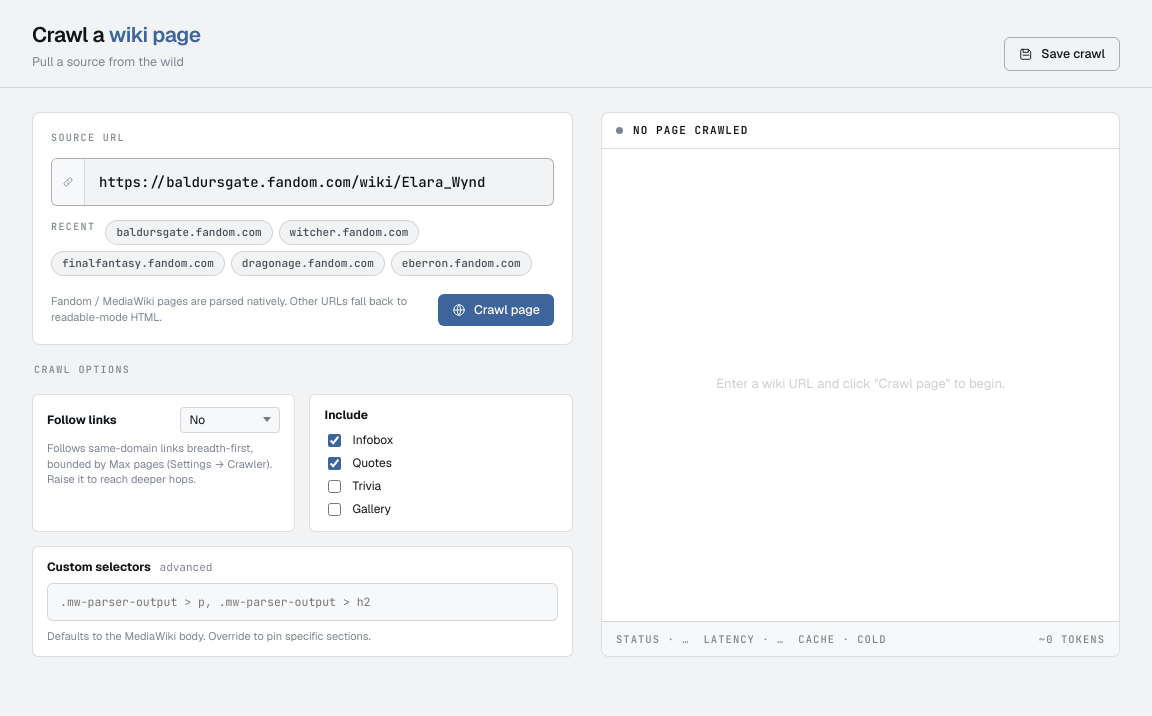
CrawlerScreen › displays crawl result in preview after successful crawl
This screenshot has width=1152, height=716.
Click the button "Crawl page". click: point(496, 310)
box: [438, 294, 554, 326]
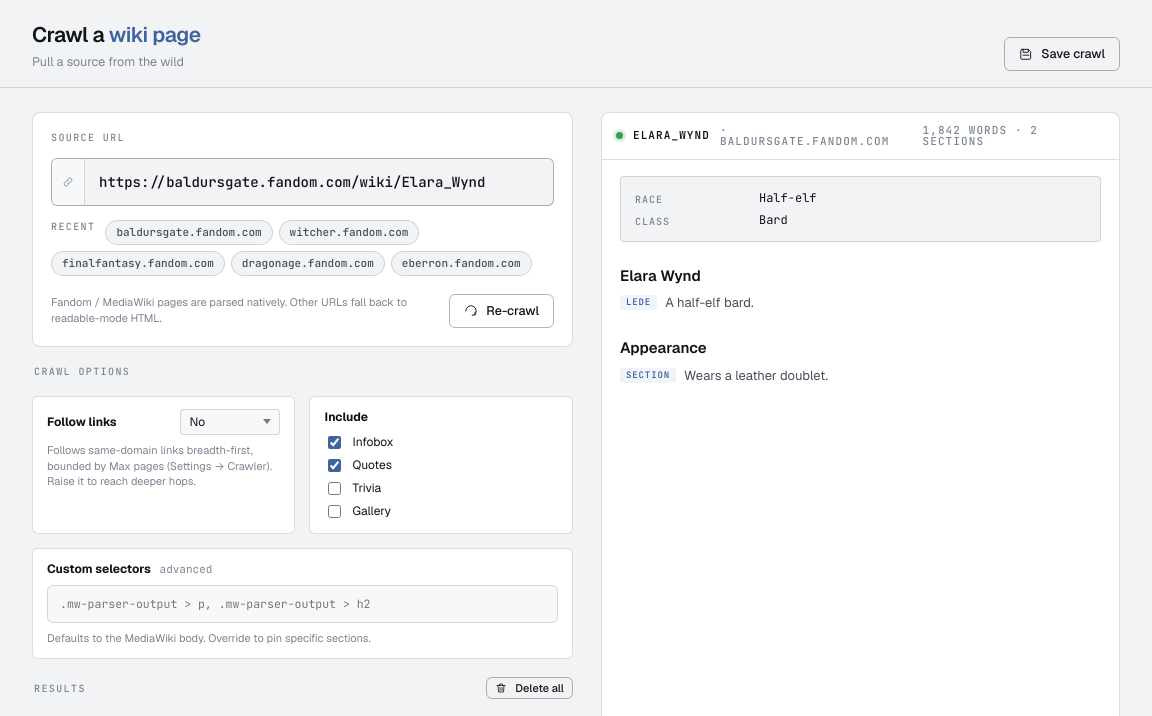
Expected: the text "Half-elf" is shown, [759, 190, 817, 206]
Expected: the text "A half-elf bard." is shown, [665, 294, 754, 311]
Expected: the text "1,842 words · 2 sections" is shown, [922, 123, 1038, 148]
